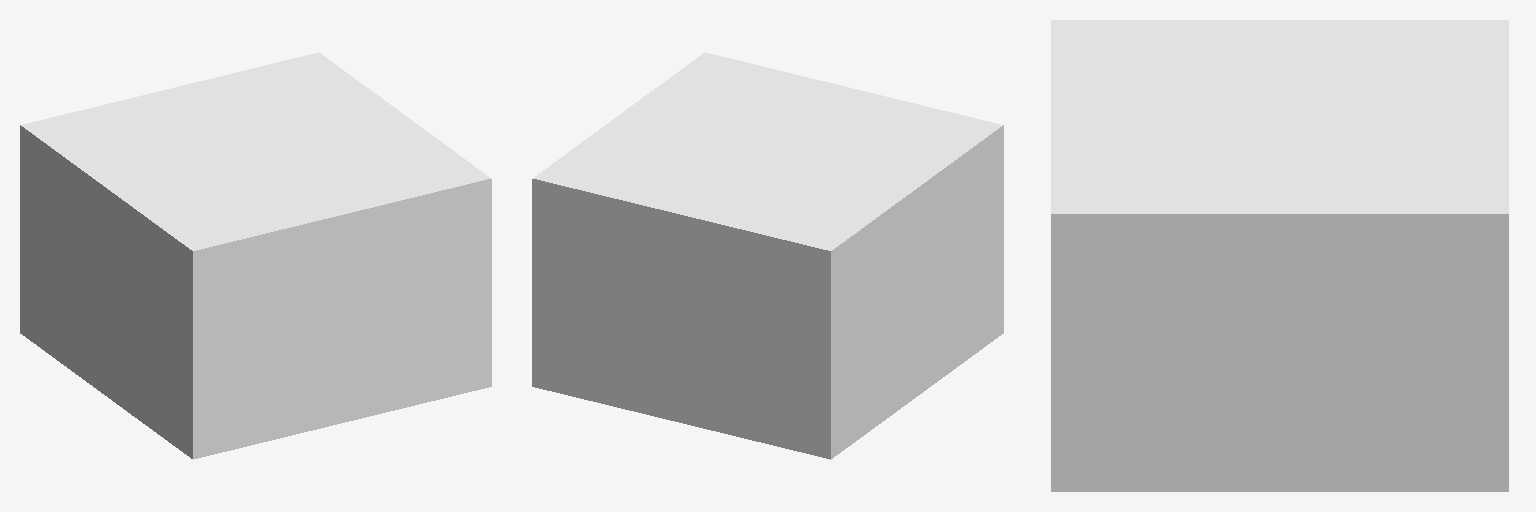
robot.urdf — box:
<?xml version="1.0" ?>
<robot name="box">
  <link name="boxLink">
  <contact>
      <lateral_friction value="1"/>
  </contact>
  <collision>
      <geometry>
          <box size="0.15 0.15 0.1"/>
      </geometry>
  </collision>
  <inertial>
      <origin rpy="0 0 0" xyz="0 0 0"/>
       <mass value="0.5"/>
       <inertia ixx="0.01" ixy="0" ixz="0" iyy="0.01" iyz="0" izz="0.01"/>
    </inertial>
  <visual>
      <origin rpy="0 0 0" xyz="0 0 0"/>
      <geometry>
				<box size="0.15 0.15 0.1"/>
      </geometry>
       <material name="green">
        <color rgba="1 1 1 1"/>
      </material>
    </visual>
    
  </link>
</robot>

--- Render facts (derived) ---
3 views of the same robot in one strip: view 1: azimuth 30°, elevation 25°; view 2: azimuth 150°, elevation 25°; view 3: azimuth 270°, elevation 25° (orthographic).
Model box with 1 links and 0 joints (none), rooted at boxLink, posed all joints at 0.
Links seen in each view (by area): view 1: boxLink; view 2: boxLink; view 3: boxLink.
Boxes of the visible links, bbox=[...] form: boxLink: bbox=[20, 52, 491, 459]; boxLink: bbox=[532, 52, 1003, 459]; boxLink: bbox=[1051, 20, 1508, 491].
Bounding box of the posed robot: 0.15 × 0.15 × 0.1 m (x, y, z).
Geometry: primitives only (box / cylinder / sphere), no mesh files.